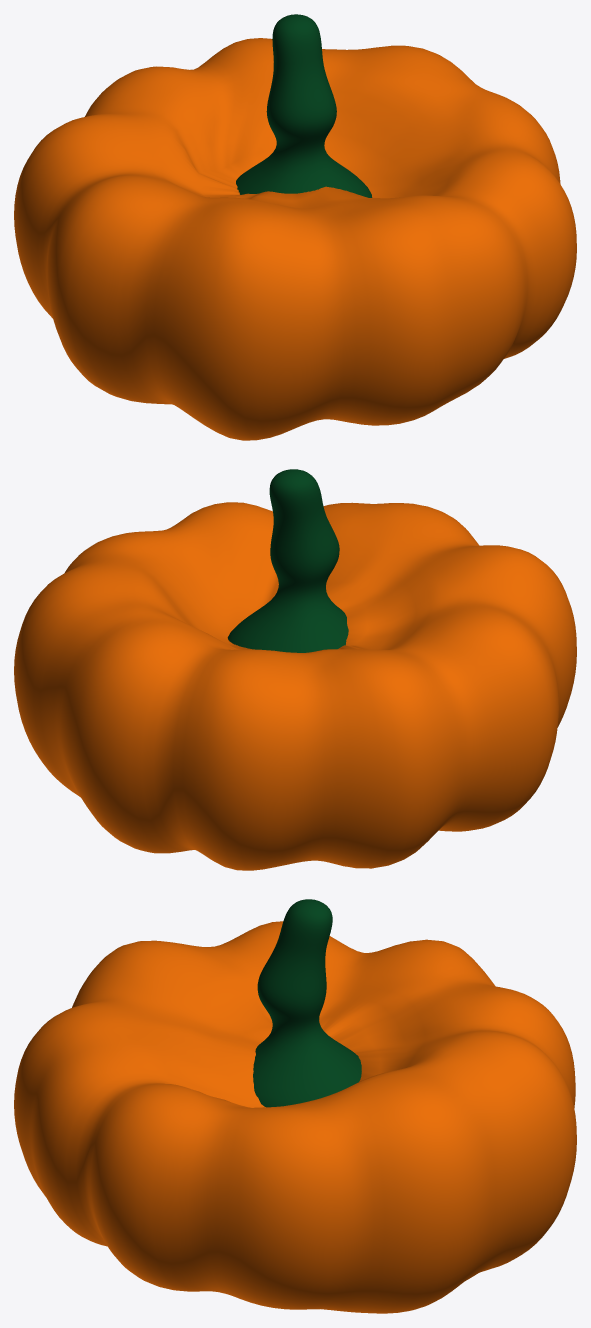
The model's file is Citrouille.fbx.
3 views of the same model, one above another, from view 1: azimuth 30°, elevation 25°; view 2: azimuth 150°, elevation 25°; view 3: azimuth 270°, elevation 25° (orthographic). The views are drawn at different scales.
Parts seen in each view (by area): view 1: Citrouille; view 2: Citrouille; view 3: Citrouille.
Boxes of the visible parts, x1,y1,x2,y2 form: Citrouille: (14, 14, 576, 440); Citrouille: (14, 469, 576, 870); Citrouille: (14, 899, 576, 1313).
Size of the model in its own units: 293 by 193 by 289.
